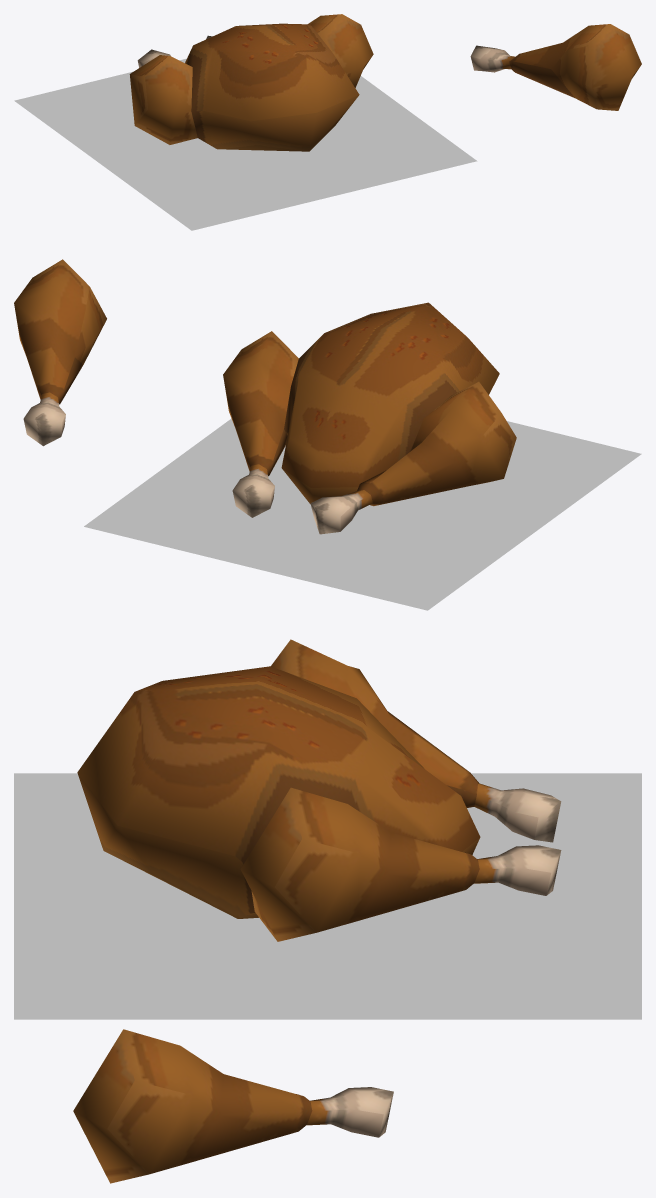
The model's file is Chicken_Pack.FBX.
The picture shows the model from 3 angles, top to bottom: view 1: azimuth 30°, elevation 25°; view 2: azimuth 150°, elevation 25°; view 3: azimuth 270°, elevation 25°; orthographic projection. The views are drawn at different scales.
Parts seen in each view (by area): view 1: SA_Chicken_Veggies, Chicken, SA_ChikenLeg; view 2: Chicken, SA_Chicken_Veggies, SA_ChikenLeg; view 3: SA_Chicken_Veggies, Chicken, SA_ChikenLeg.
Part boxes in pixels (<box>): SA_Chicken_Veggies: <box>14,58,477,230</box>; Chicken: <box>129,14,373,151</box>; SA_ChikenLeg: <box>470,24,641,110</box>; Chicken: <box>223,302,516,534</box>; SA_Chicken_Veggies: <box>84,418,641,610</box>; SA_ChikenLeg: <box>14,259,106,446</box>; SA_Chicken_Veggies: <box>14,773,641,1019</box>; Chicken: <box>77,639,561,941</box>; SA_ChikenLeg: <box>73,1029,393,1183</box>.
Bounding box in the file's own units: 22.65 × 5.99 × 14.6.
